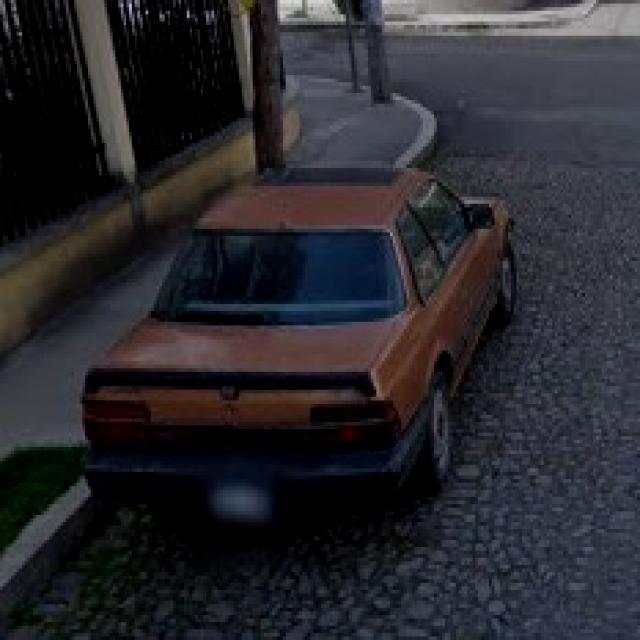car: (86, 180, 518, 521)
